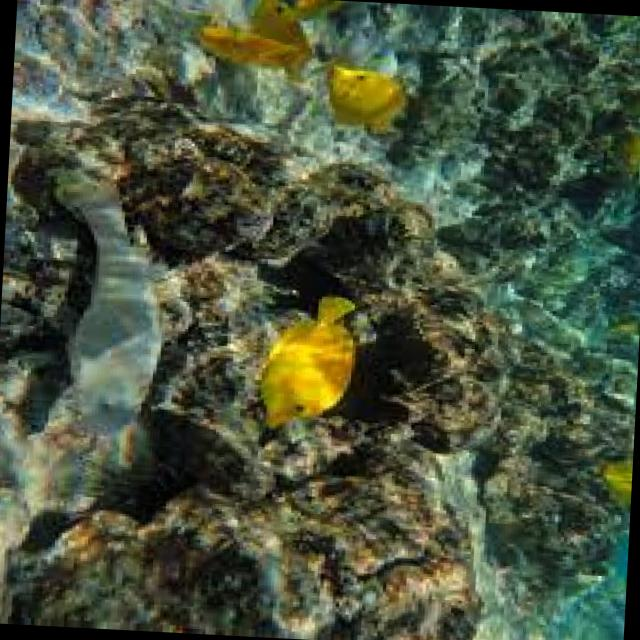YellowTang: (234, 274, 398, 443), (317, 50, 417, 146), (190, 29, 315, 73), (259, 0, 322, 75), (289, 0, 352, 23)
